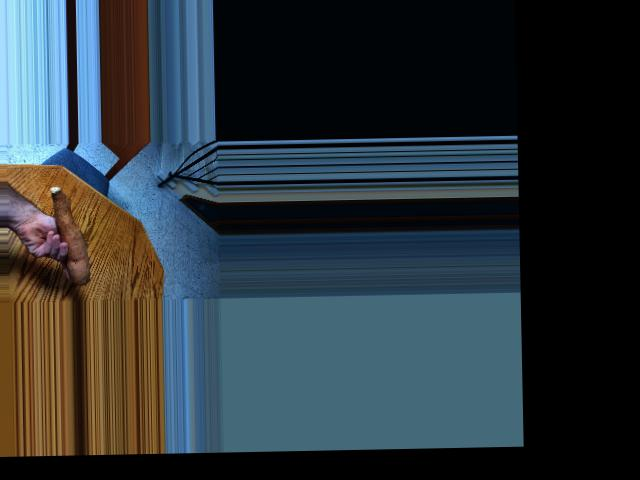sweet_potato: (46, 184, 92, 287)
